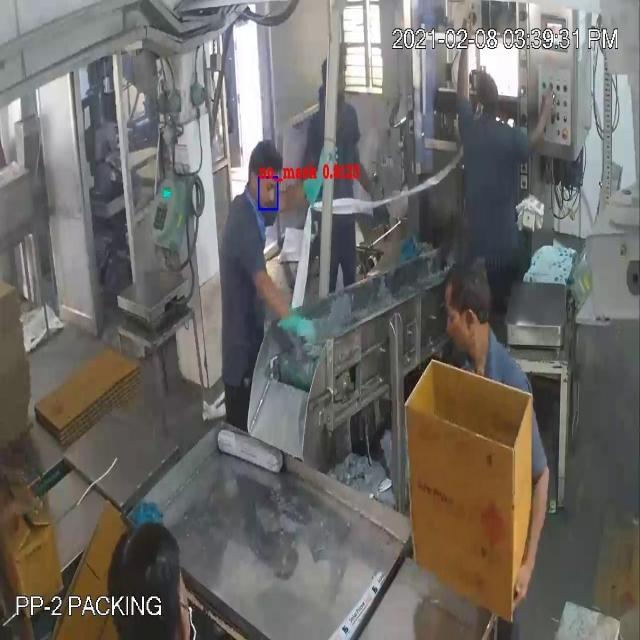No_Gloves: (55, 62, 536, 518)
